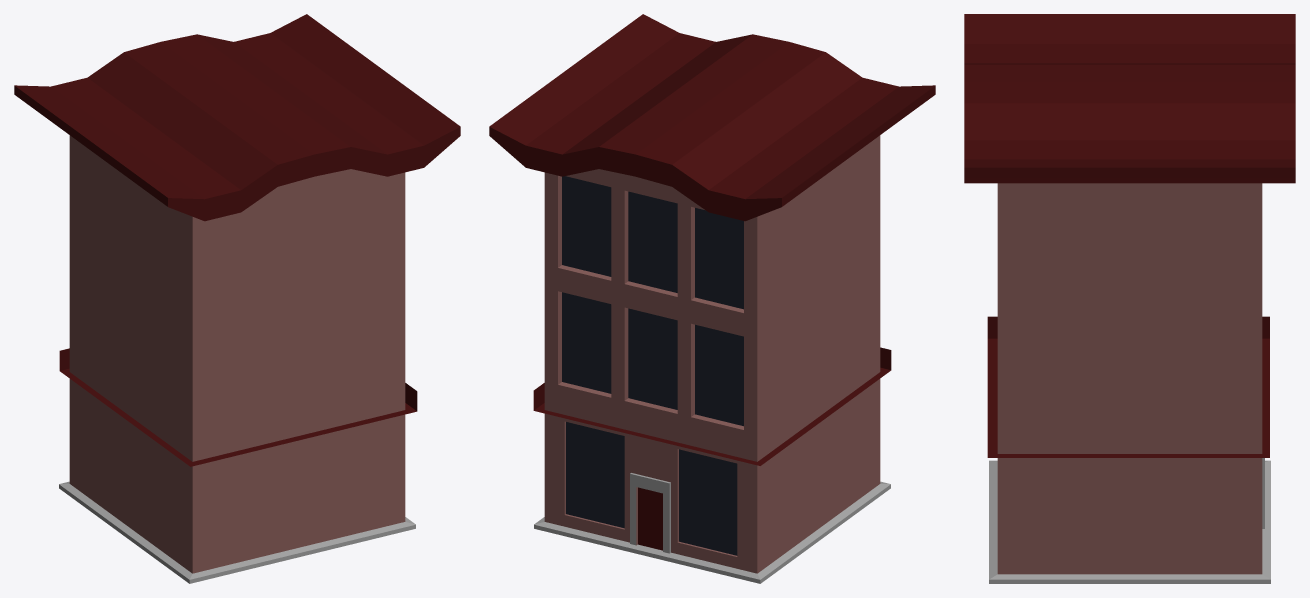
File: FillerBuilding1.fbx
The picture shows the model from 3 angles, left to right: view 1: azimuth 30°, elevation 25°; view 2: azimuth 150°, elevation 25°; view 3: azimuth 270°, elevation 25°; orthographic projection. The views are drawn at different scales.
Parts seen in each view (by area): view 1: Cube; view 2: Cube; view 3: Cube.
Part boxes in pixels (x1,y1,x2,y2): Cube: (14,14,460,583); Cube: (489,14,935,583); Cube: (964,14,1295,583).
Size of the model in its own units: 275 by 369 by 251.
